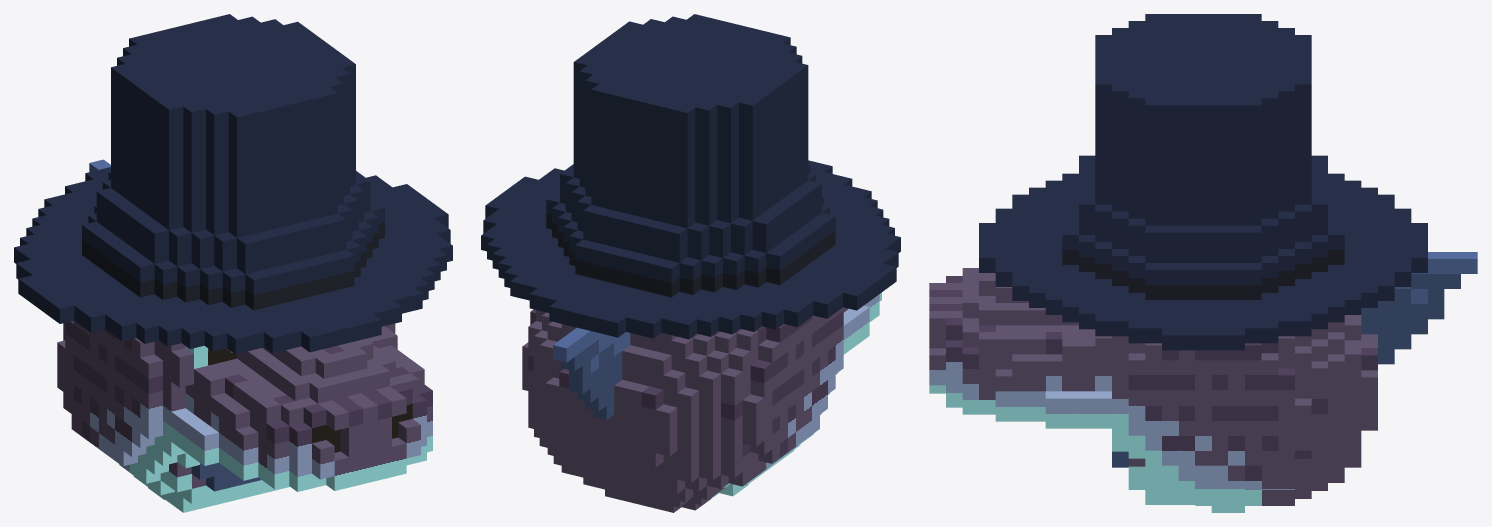
Rendered from top hat.gltf.
3 renders of one model, left to right at view 1: azimuth 30°, elevation 25°; view 2: azimuth 150°, elevation 25°; view 3: azimuth 270°, elevation 25°, orthographic. The views are drawn at different scales.
Parts seen in each view (by area): view 1: 12_Zilla_Head_Top_Hat-Mesh; view 2: 12_Zilla_Head_Top_Hat-Mesh; view 3: 12_Zilla_Head_Top_Hat-Mesh.
Part boxes in pixels (<box>): 12_Zilla_Head_Top_Hat-Mesh: <box>14,14,452,512</box>; 12_Zilla_Head_Top_Hat-Mesh: <box>481,14,900,512</box>; 12_Zilla_Head_Top_Hat-Mesh: <box>929,14,1477,512</box>.
Bounding box in the file's own units: 27 × 28 × 33.
Materials: 1 (1 with a texture image).
